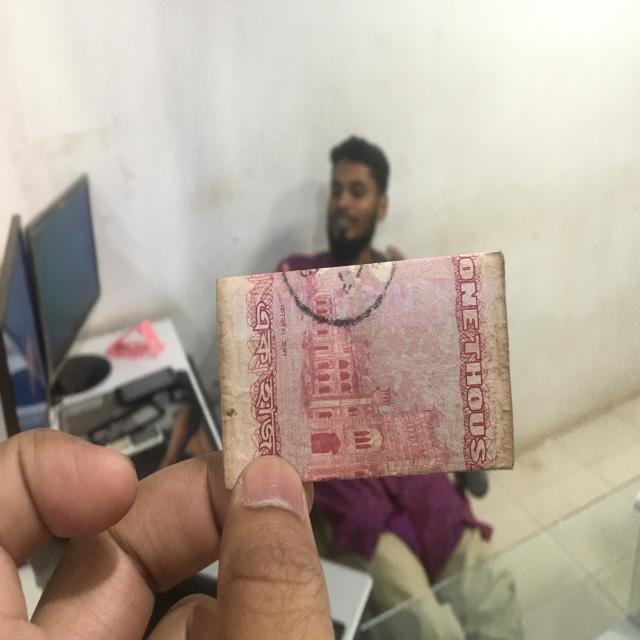Taka: (211, 275, 522, 474)
